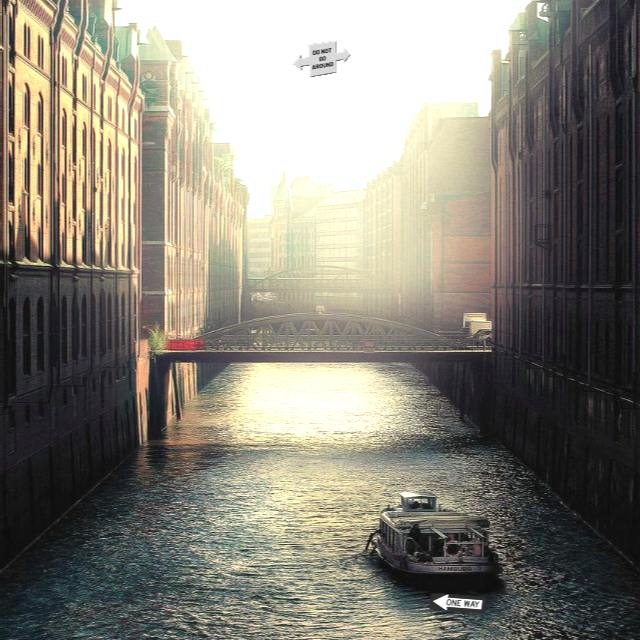DO_NOT_GO_AROUND: (292, 40, 350, 77)
ONE_WAY_ left: (428, 592, 486, 614)
